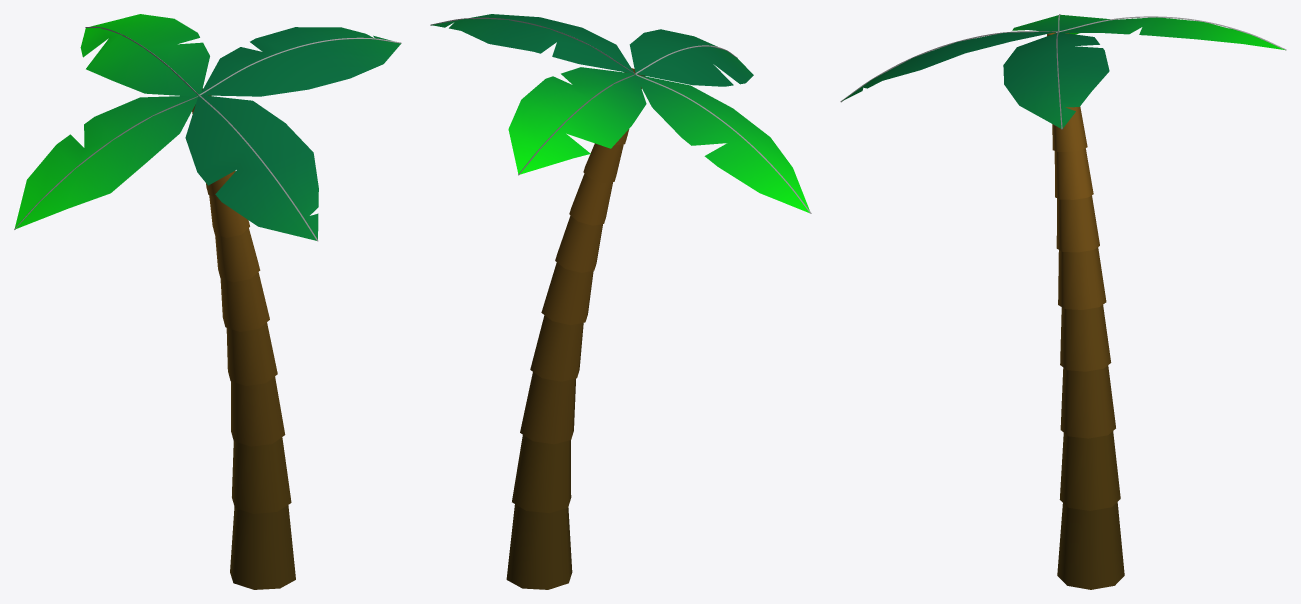
File: PalmTree420.FBX
3 renders of one model, left to right at view 1: azimuth 30°, elevation 25°; view 2: azimuth 150°, elevation 25°; view 3: azimuth 270°, elevation 25°, orthographic.
Visible parts, largest first — view 1: 4; view 2: 4; view 3: 4.
Part boxes in pixels (x1,y1,x2,y2): 4: (14, 14, 400, 589); 4: (431, 14, 809, 589); 4: (842, 15, 1284, 589).
Bounding box in the file's own units: 567 × 756 × 577.
Materials: 10 (9 with a texture image).
